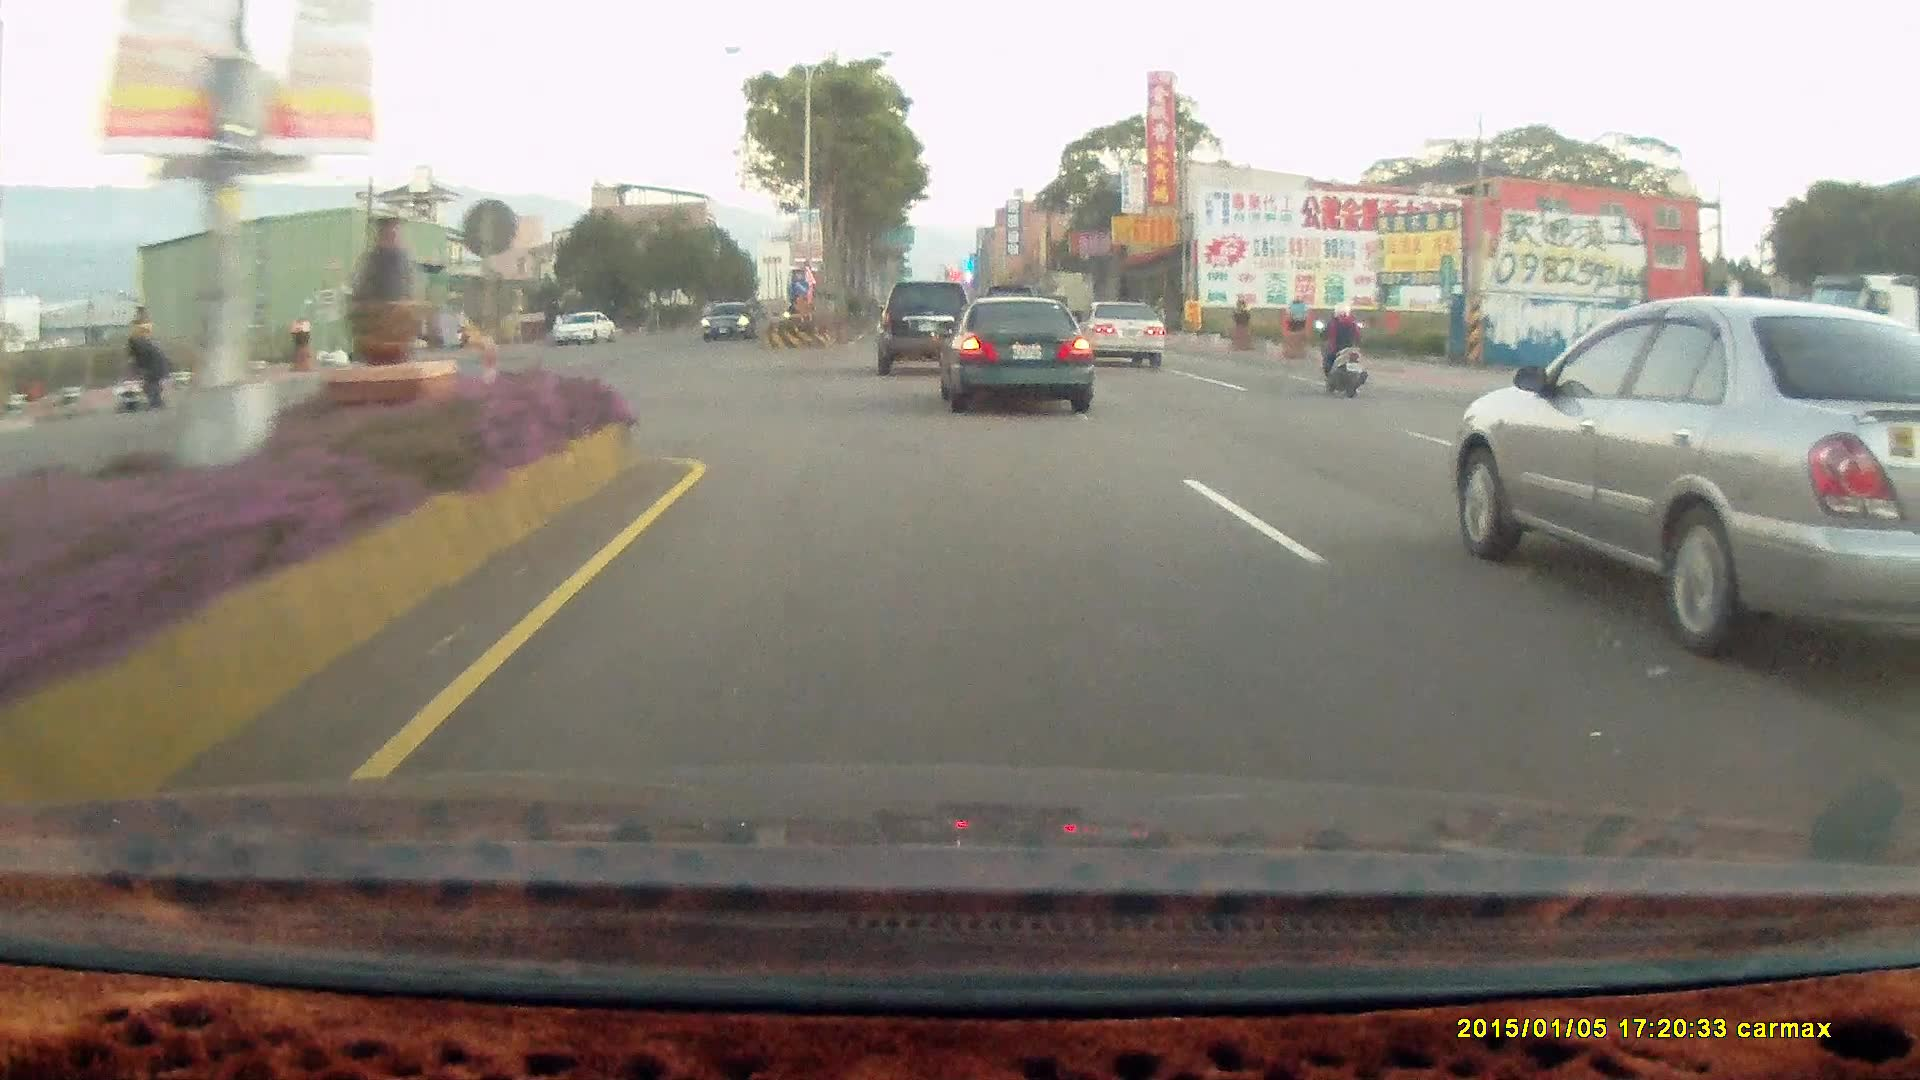pedestrian: (122, 331, 170, 407)
rider: (1308, 293, 1380, 406), (1311, 297, 1367, 395)
vehicle: (1445, 301, 1920, 668), (929, 291, 1088, 408), (947, 297, 1103, 416), (875, 279, 979, 377), (875, 280, 971, 375), (1077, 295, 1166, 365), (1078, 300, 1166, 365), (551, 308, 619, 347), (700, 302, 758, 345), (699, 300, 757, 341), (551, 307, 617, 342)
